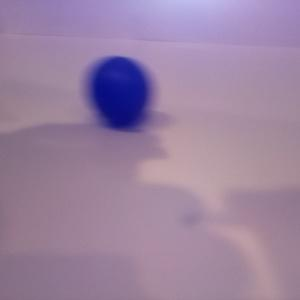dead_ball: (90, 57, 155, 126)
